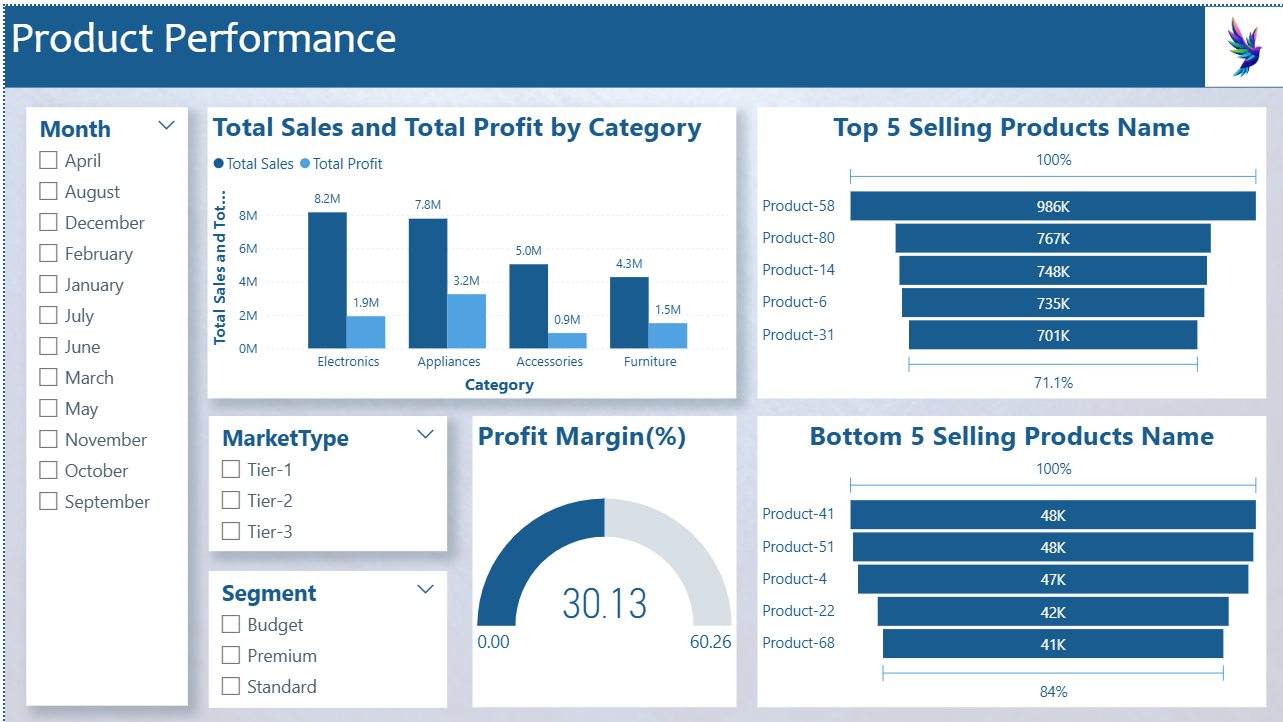

The page's visual inventory and layout, read from the dashboard file:
{"tool":"powerbi","page":{"name":"Product Performance","canvas":[1280,720],"ordinal":2},"visuals":[{"type":"textbox","box":[0,0,1280,81.2],"z":0},{"type":"image","box":[1200,0,80,81.2],"z":1000},{"type":"clusteredColumnChart","fields":{"Category":["Dim_Product.Category"],"Y":["Fact_SalesTargets.Total Sales","Dim_Customer.Total Profit"]},"box":[202.9,101.4,528.6,291.4],"z":2000},{"type":"funnel","title":"Top 5 Selling Products Name","fields":{"Category":["Dim_Product.ProductName"],"Y":["Fact_SalesTargets.Total Sales"]},"box":[752.9,101.4,508.6,291.4],"z":3000},{"type":"funnel","title":"Bottom 5 Selling Products Name","fields":{"Category":["Dim_Product.ProductName"],"Y":["Fact_SalesTargets.Total Sales"]},"box":[752.9,410,508.6,291.4],"z":4000},{"type":"slicer","fields":{"Values":["Dim_Region.MarketType"]},"box":[203.3,410,238.3,135],"z":5000},{"type":"slicer","fields":{"Values":["Dim_Date.Month"]},"box":[21.7,101.7,161.7,598.3],"z":6000},{"type":"gauge","fields":{"Y":["Dim_Customer.Profit Margin(%)"]},"box":[467.1,410,264.3,291.4],"z":7000},{"type":"slicer","fields":{"Values":["Dim_Product.Segment"]},"box":[203.3,565,238.3,136.7],"z":8000}]}

Visuals, with their boxes in screenshot pixels (x1, y1, x2, y2), scaled from the page's 1280x720 canvas onto the 1283x722 screenshot:
textbox: region(0, 0, 1282, 81)
image: region(1203, 0, 1282, 81)
clusteredColumnChart - Dim_Product.Category x Fact_SalesTargets.Total Sales: region(203, 102, 733, 394)
"Top 5 Selling Products Name" funnel: region(755, 102, 1264, 394)
"Bottom 5 Selling Products Name" funnel: region(755, 411, 1264, 703)
slicer - Dim_Region.MarketType: region(204, 411, 443, 547)
slicer - Dim_Date.Month: region(22, 102, 184, 702)
gauge - Dim_Customer.Profit Margin(%): region(468, 411, 733, 703)
slicer - Dim_Product.Segment: region(204, 567, 443, 704)
